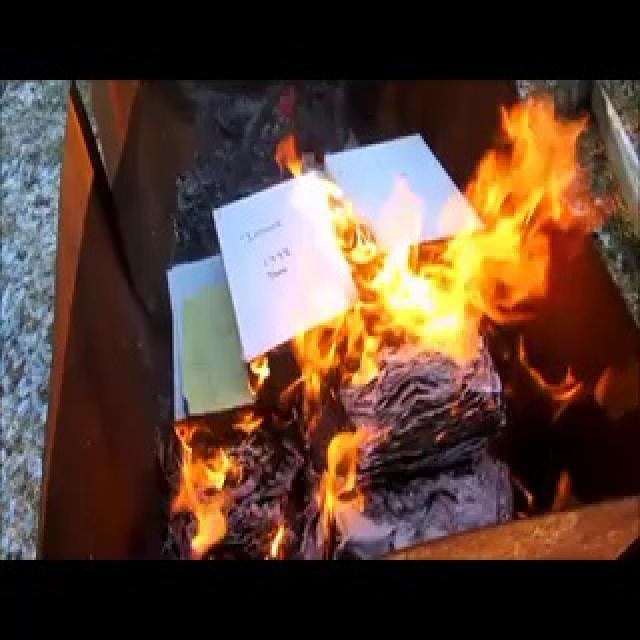Fire: (159, 393, 299, 535)
